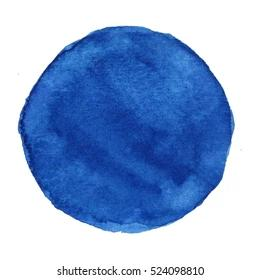blue_circle: (18, 24, 239, 236)
